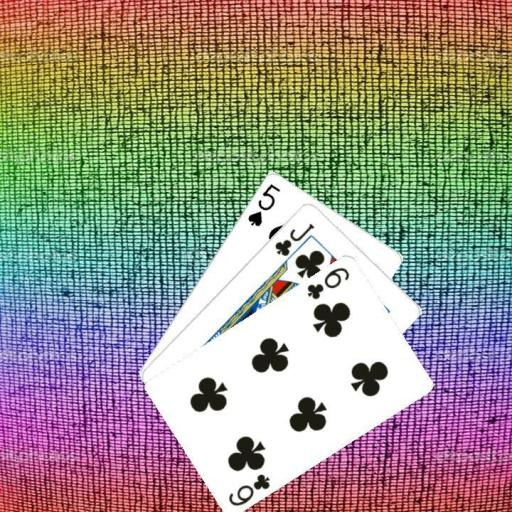5S: (244, 180, 282, 227)
6C: (304, 263, 351, 301), (226, 470, 272, 507)
JC: (271, 220, 316, 257)
